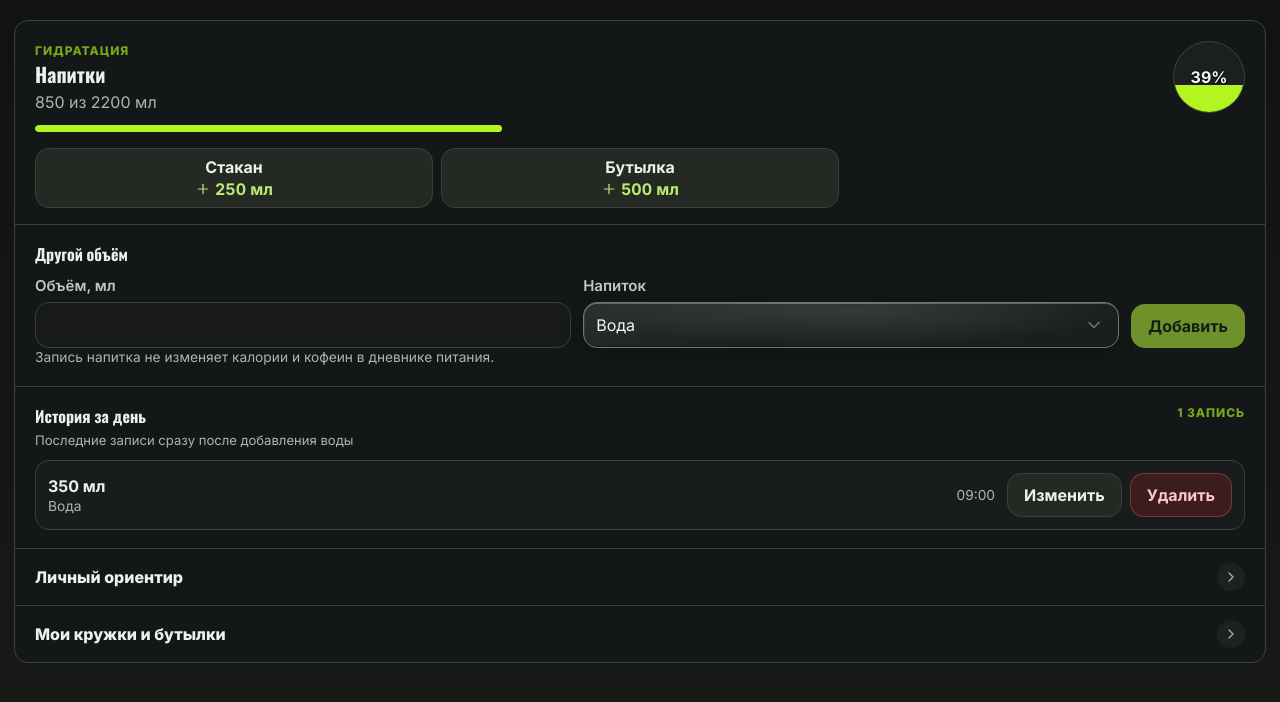
Test: HydrationTracker › quick-adds once and offers explicit undo
Click the button "Стакан 250 мл": (234,178) [35,148,433,208]
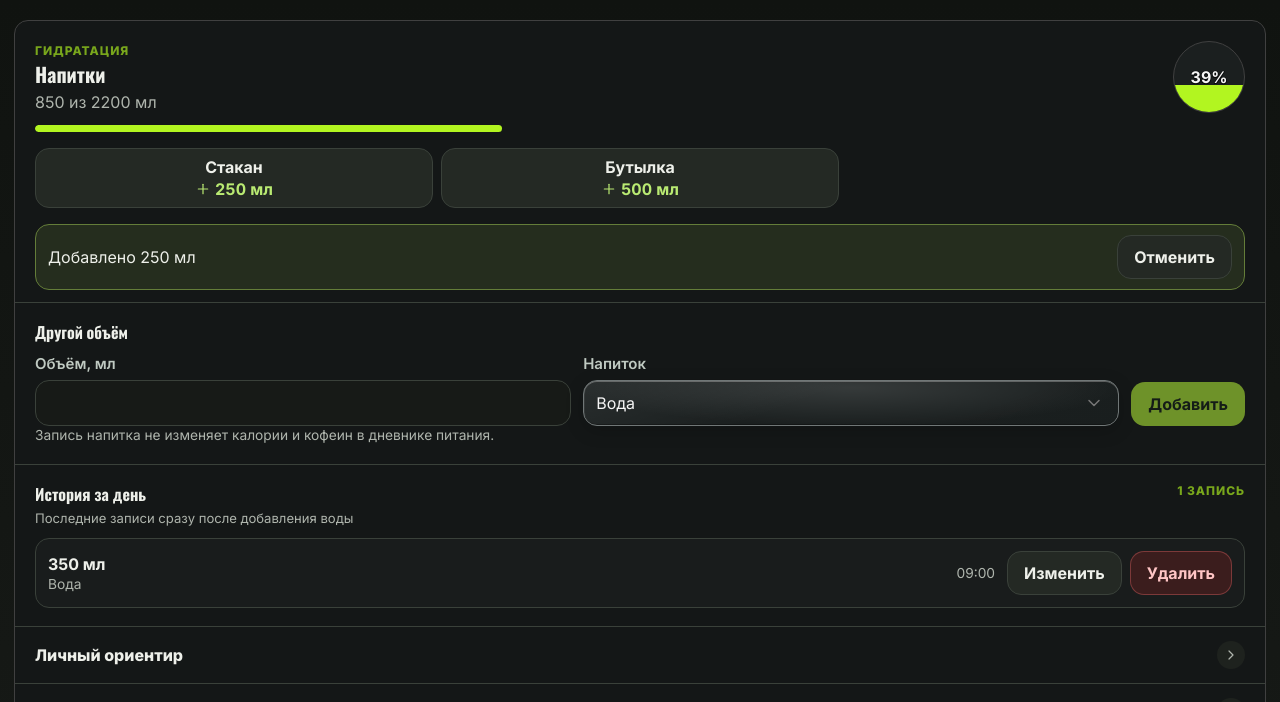
Result: the text "Добавлено 250 мл" is shown at [48,247,196,267]
Result: the button "Отменить" is shown at [1117,235,1232,279]
